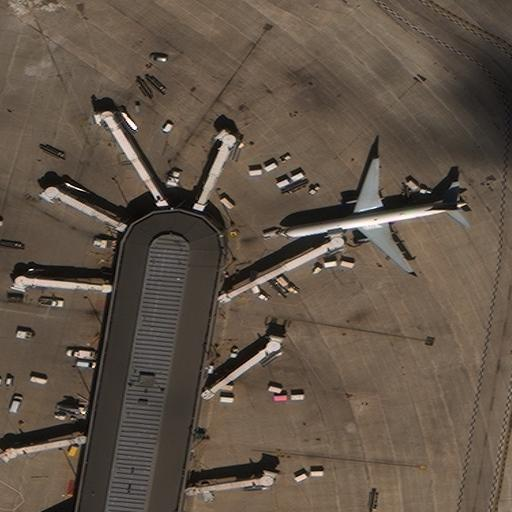Large Civil Transport: (276, 157, 466, 275)
